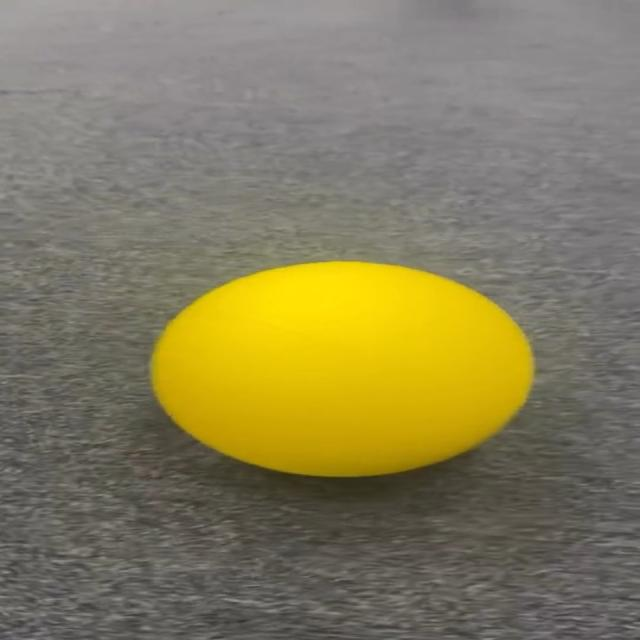Fuels: (149, 258, 529, 473)
